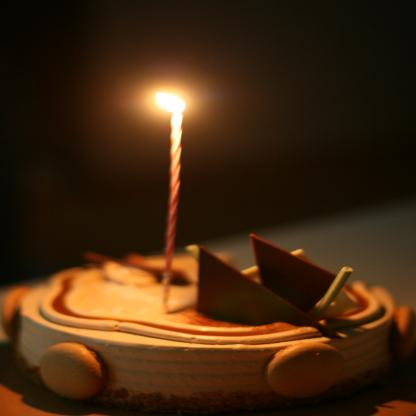fire: (150, 88, 189, 119)
